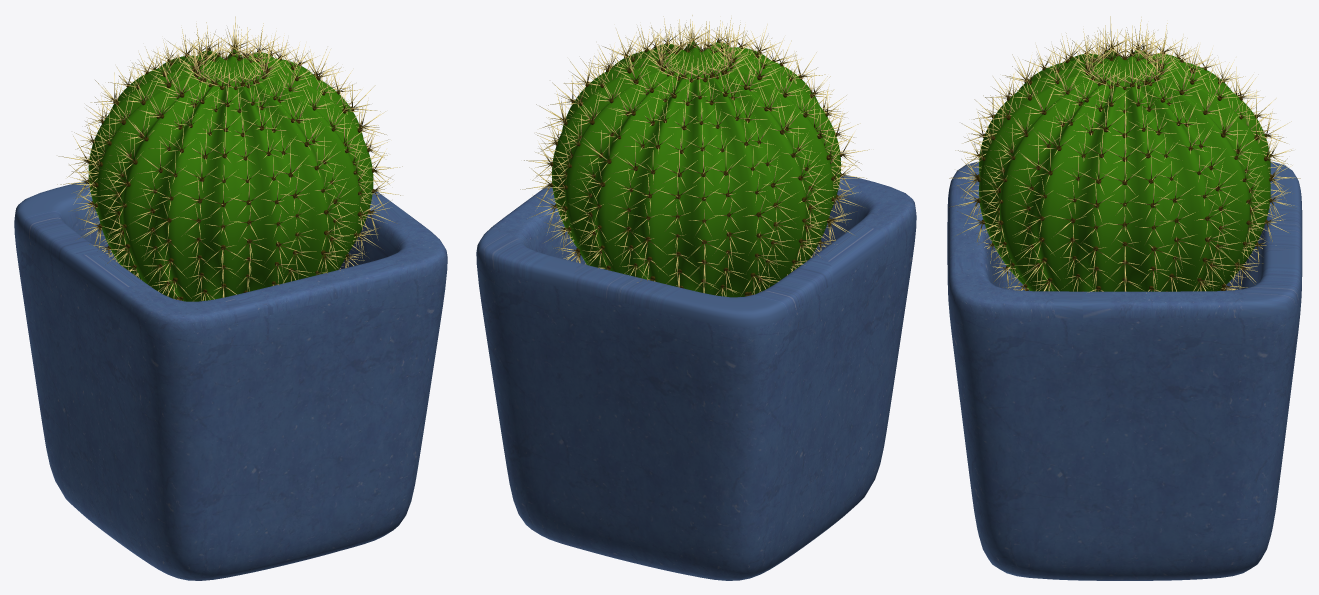
File: PARODIA_LENINGHAUSII_BLUE_CERAMIC_POT.glb
3 views of the same model, side by side, from view 1: azimuth 30°, elevation 25°; view 2: azimuth 150°, elevation 25°; view 3: azimuth 270°, elevation 25° (orthographic). The views are drawn at different scales.
Parts seen in each view (by area): view 1: pot01, Cactus Ball1; view 2: pot01, Cactus Ball1; view 3: pot01, Cactus Ball1.
Boxes of the visible parts, x1,y1,x2,y2 form: pot01: [14, 181, 447, 580]; Cactus Ball1: [88, 49, 373, 301]; pot01: [476, 174, 916, 580]; Cactus Ball1: [551, 41, 841, 297]; pot01: [947, 161, 1302, 580]; Cactus Ball1: [979, 49, 1270, 291].
Bounding box in the file's own units: 0.91 × 1.39 × 0.9207.
3 materials, 2 textured.
